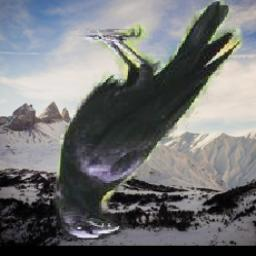Crow: (53, 0, 243, 240)
